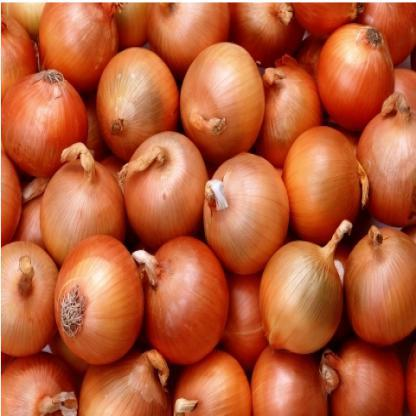onion: (36, 238, 134, 362), (92, 50, 177, 165), (136, 256, 223, 364), (352, 94, 416, 235), (198, 165, 287, 259), (280, 134, 364, 228), (270, 251, 350, 348), (183, 48, 256, 153), (11, 68, 86, 169), (129, 145, 204, 239), (39, 164, 135, 236), (349, 230, 415, 324), (322, 30, 388, 124)
